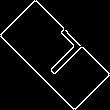L_SW: (26, 26, 84, 84)
